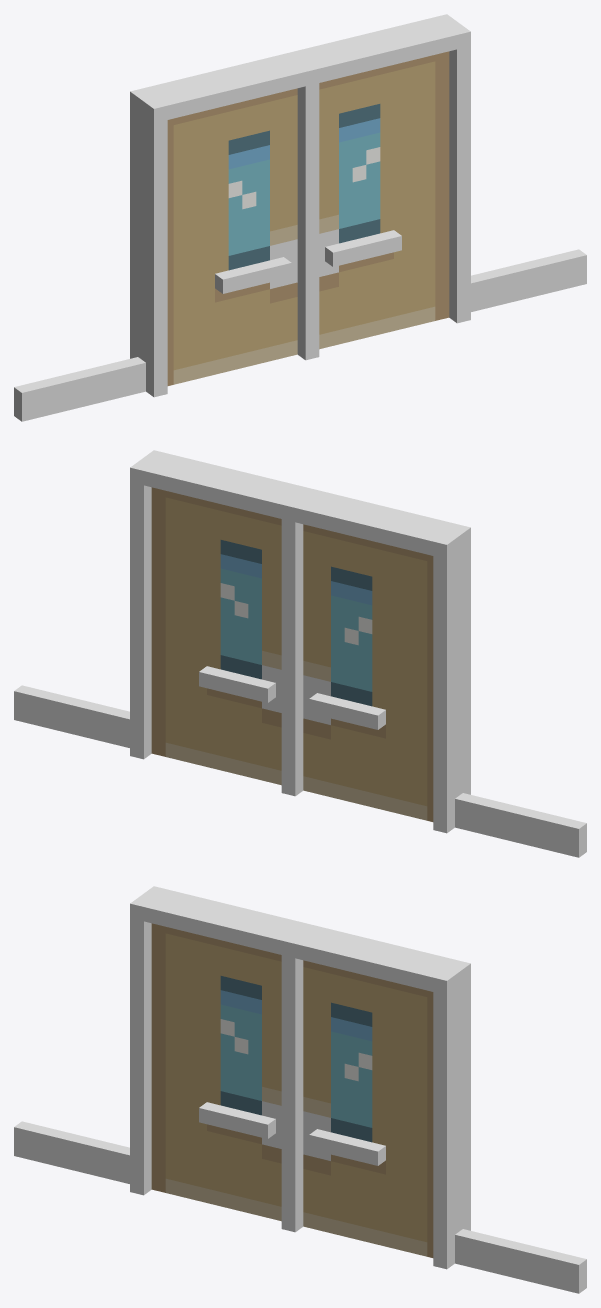
Rendered from wall_normal_door.obj.
3 views of the same model, one above another, from view 1: azimuth 30°, elevation 25°; view 2: azimuth 150°, elevation 25°; view 3: azimuth 330°, elevation 25° (orthographic).
Size of the model in its own units: 4.1 by 2 by 0.3.
1 material, 1 textured.
